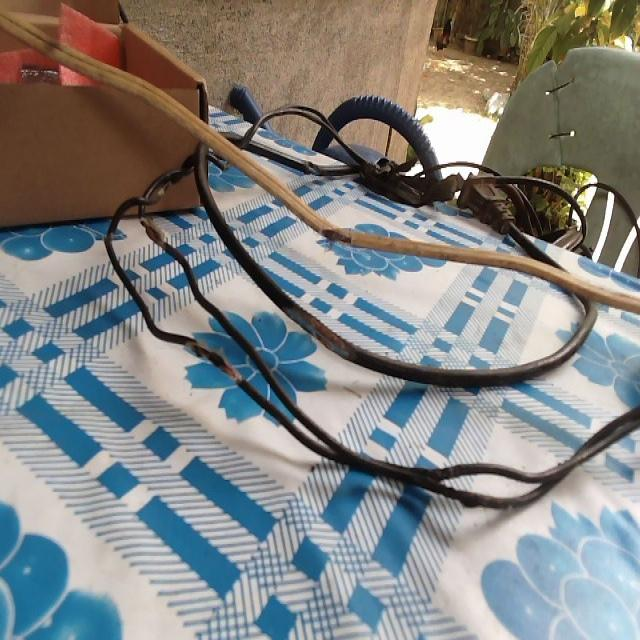-: (284, 300, 352, 359), (188, 344, 242, 381), (320, 221, 353, 251), (142, 219, 165, 244)
